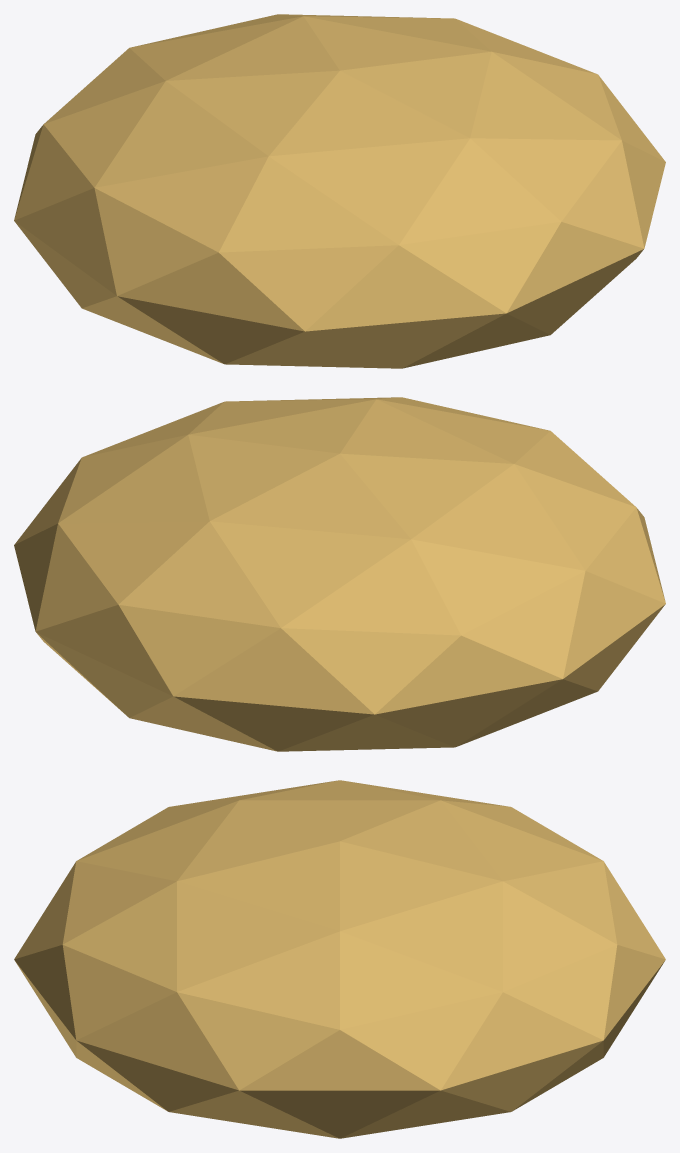
The model's file is grain_pile.glb.
3 renders of one model, top to bottom at view 1: azimuth 30°, elevation 25°; view 2: azimuth 150°, elevation 25°; view 3: azimuth 270°, elevation 25°, orthographic. The views are drawn at different scales.
Visible parts, largest first — view 1: grain_pile; view 2: grain_pile; view 3: grain_pile.
Part boxes in pixels (x1,y1,x2,y2): grain_pile: (14,14,665,368); grain_pile: (14,397,665,751); grain_pile: (14,780,665,1138).
Size of the model in its own units: 0.7608 by 0.32 by 0.8.
